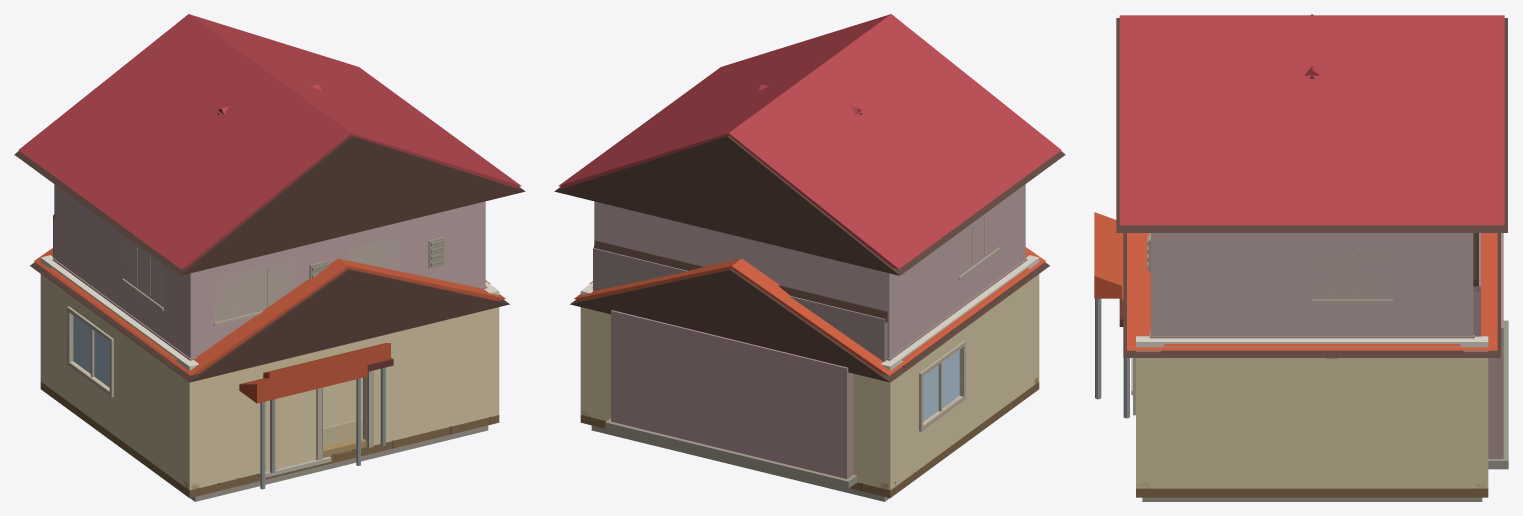
The model's file is buildings.glb.
The picture shows the model from 3 angles, left to right: view 1: azimuth 30°, elevation 25°; view 2: azimuth 150°, elevation 25°; view 3: azimuth 270°, elevation 25°; orthographic projection. The views are drawn at different scales.
Parts seen in each view (by area): view 1: HouseLarge, RoomInterior, HouseOpen, HouseSmall, PorchHouse; view 2: HouseLarge, PorchHouse, RoomInterior, HouseOpen, HouseSolar; view 3: HouseLarge, RoomInterior, HouseOpen, PorchHouse, HouseSolar, HouseSmall.
Boxes of the visible parts, x1=… form: HouseLarge: x1=14, y1=14, x2=525, y2=360; RoomInterior: x1=40, y1=255, x2=499, y2=498; HouseOpen: x1=30, y1=248, x2=509, y2=501; HouseSmall: x1=263, y1=343, x2=393, y2=472; PorchHouse: x1=45, y1=268, x2=490, y2=367; HouseLarge: x1=554, y1=14, x2=1065, y2=360; PorchHouse: x1=589, y1=268, x2=1034, y2=488; RoomInterior: x1=580, y1=255, x2=1039, y2=498; HouseOpen: x1=570, y1=247, x2=1049, y2=501; HouseSolar: x1=593, y1=240, x2=887, y2=361; HouseLarge: x1=1116, y1=14, x2=1507, y2=338; RoomInterior: x1=1133, y1=336, x2=1488, y2=497; HouseOpen: x1=1094, y1=212, x2=1500, y2=501; PorchHouse: x1=1160, y1=233, x2=1508, y2=469; HouseSolar: x1=1473, y1=233, x2=1480, y2=336; HouseSmall: x1=1119, y1=233, x2=1129, y2=418.
Size of the model in its own units: 9.38 by 8.81 by 8.22.
